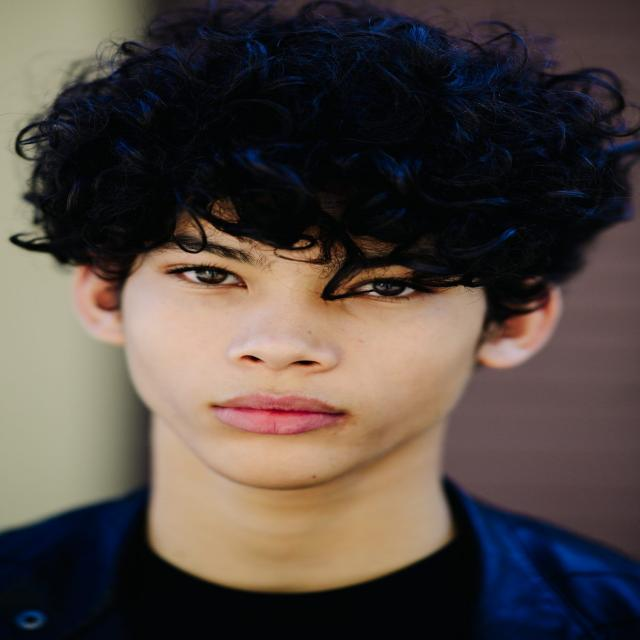earlobe: (86, 313, 124, 347), (478, 343, 519, 372)
eye: (343, 276, 439, 302), (162, 263, 246, 289)
nose: (222, 357, 332, 387)
wholeear: (479, 276, 564, 372), (69, 248, 125, 347)
